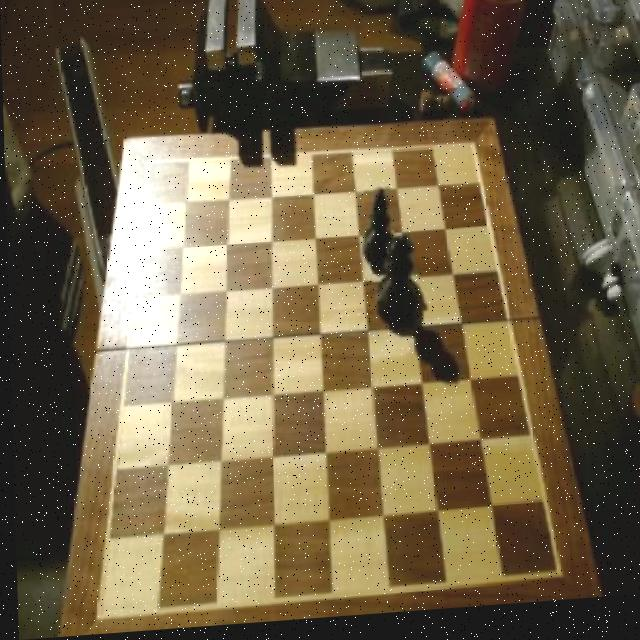bishop: (356, 192, 393, 277)
black-pawn: (369, 245, 420, 336)
